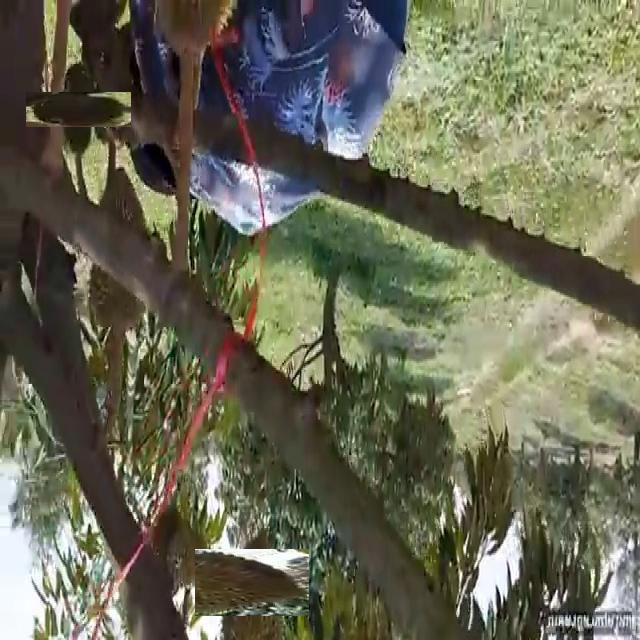durian: (86, 167, 154, 338), (207, 538, 298, 628), (43, 74, 114, 144)
